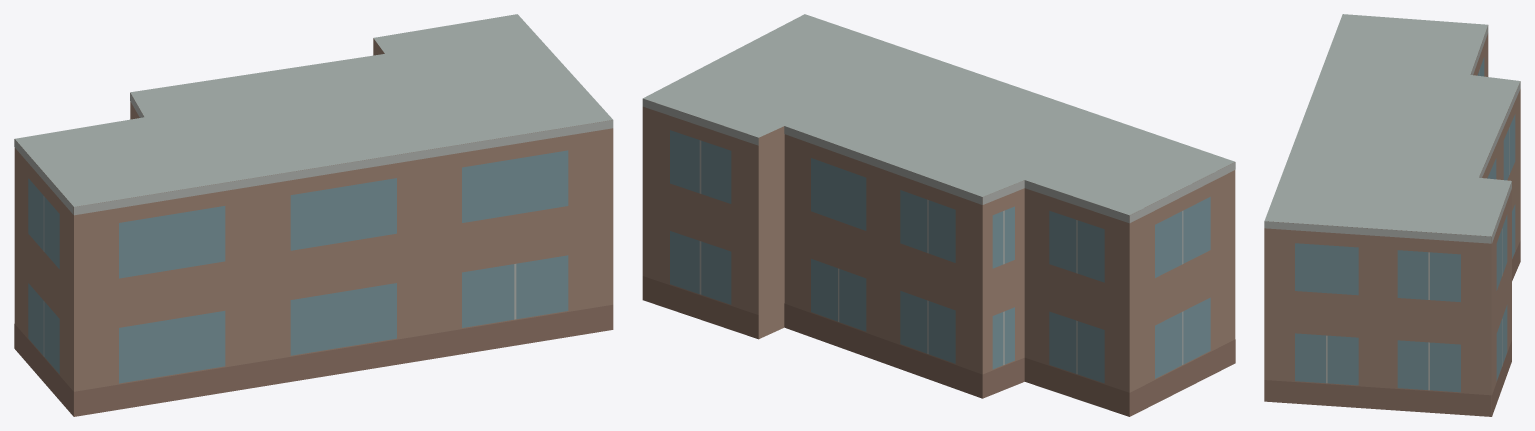
The model's file is survey-upis-32577326.glb.
3 views of the same model, side by side, from view 1: azimuth 30°, elevation 25°; view 2: azimuth 150°, elevation 25°; view 3: azimuth 270°, elevation 25° (orthographic). The views are drawn at different scales.
Parts seen in each view (by area): view 1: survey-upis-32577326.tmp; view 2: survey-upis-32577326.tmp; view 3: survey-upis-32577326.tmp.
Part boxes in pixels (x1=…): survey-upis-32577326.tmp: x1=14, y1=14, x2=613, y2=416; survey-upis-32577326.tmp: x1=642, y1=14, x2=1235, y2=416; survey-upis-32577326.tmp: x1=1264, y1=14, x2=1520, y2=416.
Bounding box in the file's own units: 16.15 × 6.1 × 7.86.
